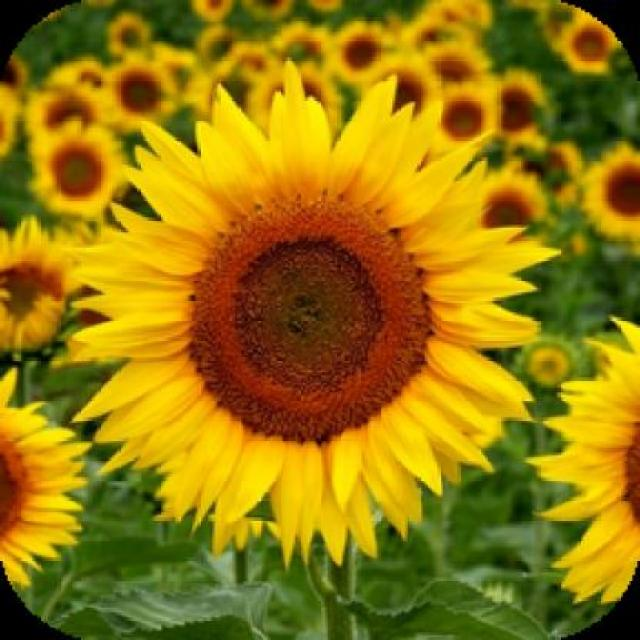sunflower: (50, 82, 542, 542), (28, 117, 138, 217), (577, 139, 640, 249), (101, 60, 180, 130)
